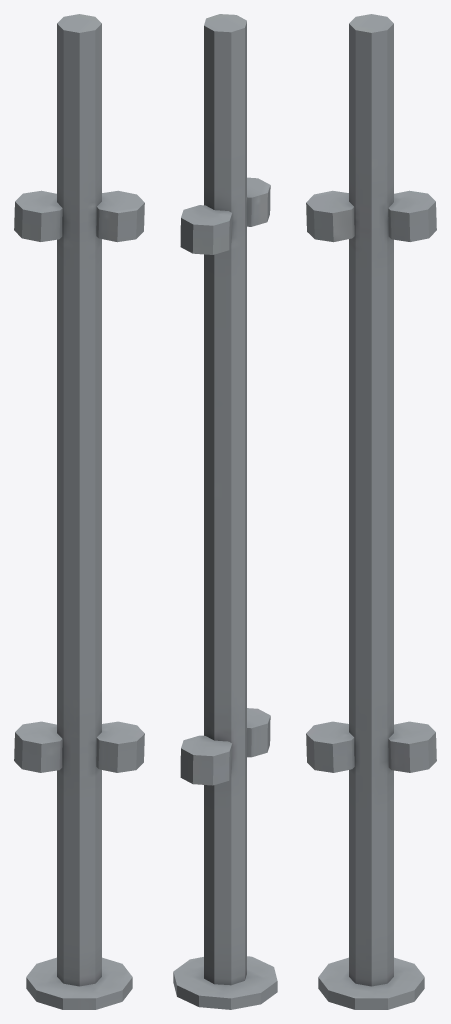
Rendered from atrium_baluster.glb.
3 views of the same model, side by side, from view 1: azimuth 90°, elevation 25°; view 2: azimuth 150°, elevation 25°; view 3: azimuth 270°, elevation 25° (orthographic).
Visible parts, largest first — view 1: atrium_baluster; view 2: atrium_baluster; view 3: atrium_baluster.
Boxes of the visible parts, bbox=[...] form: atrium_baluster: bbox=[14, 14, 144, 1009]; atrium_baluster: bbox=[173, 14, 277, 1009]; atrium_baluster: bbox=[306, 14, 436, 1009].
Size of the model in its own units: 0.0951 by 1 by 0.1228.
1 material, 1 textured.
